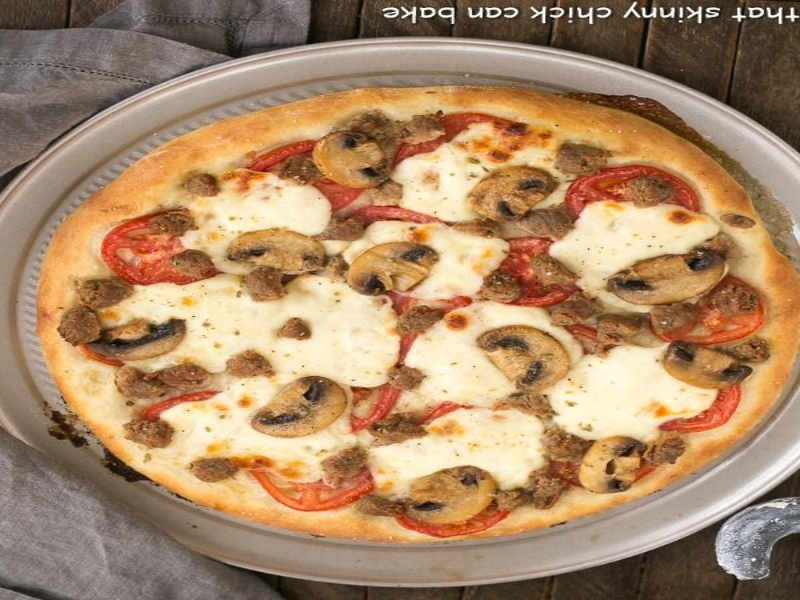champignon: (392, 459, 510, 540), (471, 323, 579, 402), (245, 370, 353, 442), (219, 226, 333, 291), (340, 235, 445, 305), (654, 339, 762, 403), (299, 128, 396, 198), (611, 252, 730, 308), (86, 308, 197, 365), (461, 165, 560, 224), (575, 428, 654, 501)
